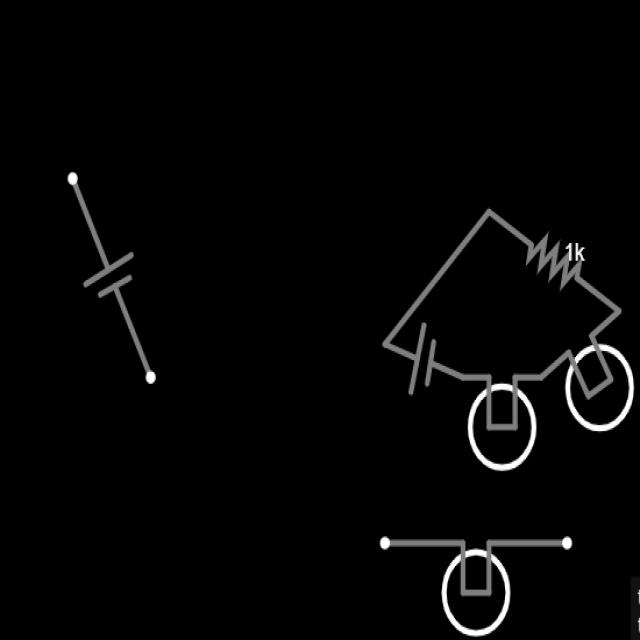Battery: (81, 249, 134, 299), (409, 320, 438, 395)
Light Bulb: (440, 550, 511, 638), (466, 382, 536, 470), (565, 344, 634, 431)
Resistor: (526, 232, 580, 289)
Wire: (382, 208, 492, 347), (68, 173, 112, 270), (115, 291, 159, 386), (486, 536, 573, 561), (490, 205, 534, 248), (574, 276, 623, 314), (380, 536, 464, 553), (591, 304, 626, 340), (432, 358, 465, 381), (543, 349, 570, 377), (392, 343, 417, 362), (512, 373, 545, 382), (462, 373, 489, 383), (491, 384, 513, 393)
